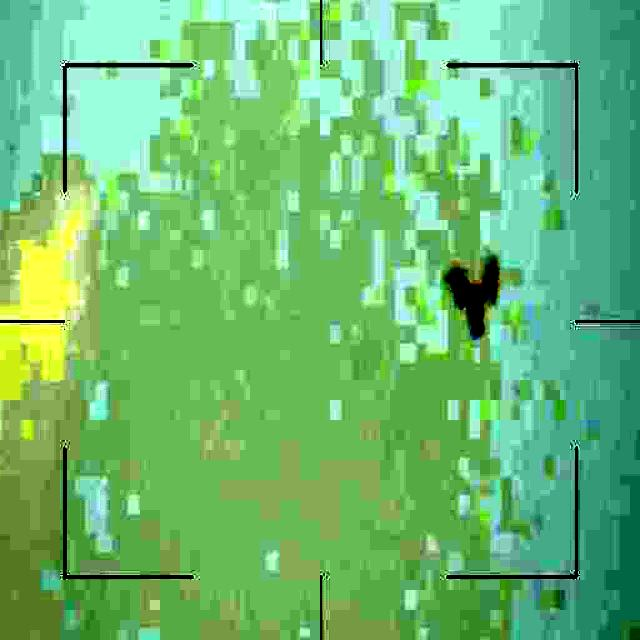bird: (445, 245, 504, 342)
